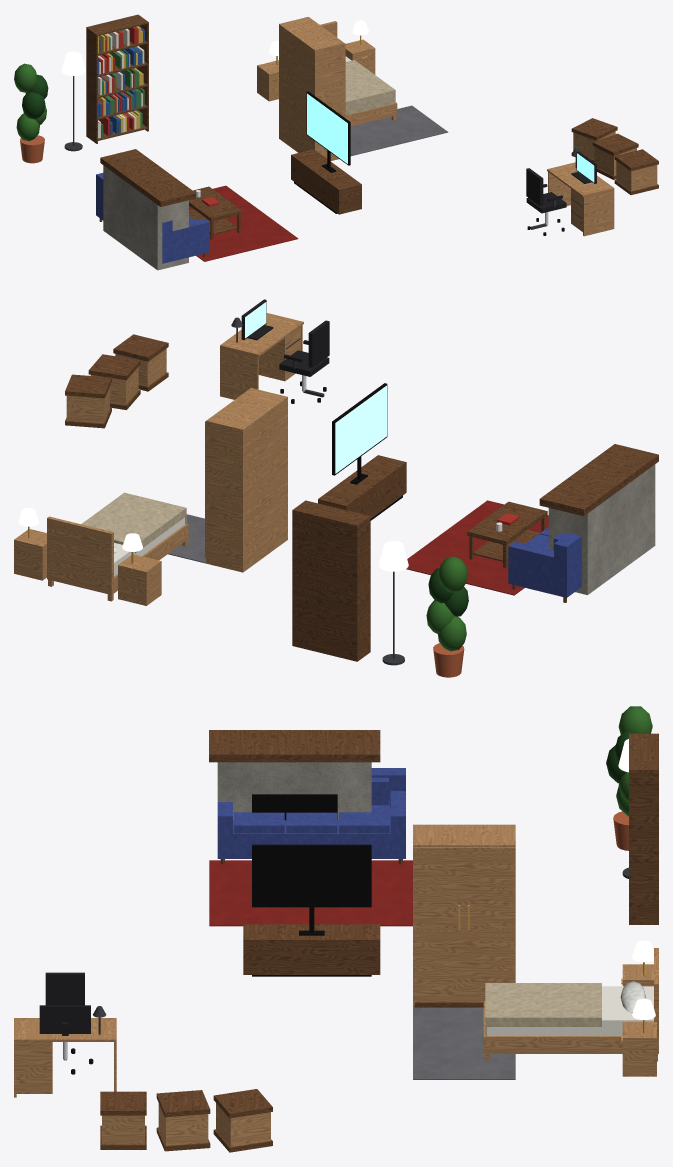
File: i_nordic_cabin.gltf
3 renders of one model, top to bottom at view 1: azimuth 30°, elevation 25°; view 2: azimuth 150°, elevation 25°; view 3: azimuth 270°, elevation 25°, orthographic. The views are drawn at different scales.
Parts seen in each view (by area): view 1: I_nordic_cabin; view 2: I_nordic_cabin; view 3: I_nordic_cabin.
Part boxes in pixels (left/top/right/bottom): I_nordic_cabin: left=14, top=14, right=658, bottom=270; I_nordic_cabin: left=14, top=299, right=658, bottom=677; I_nordic_cabin: left=14, top=706, right=658, bottom=1152.
Size of the model in its own units: 8.9 by 2.1 by 7.54.
Materials: 29 (10 with a texture image).
